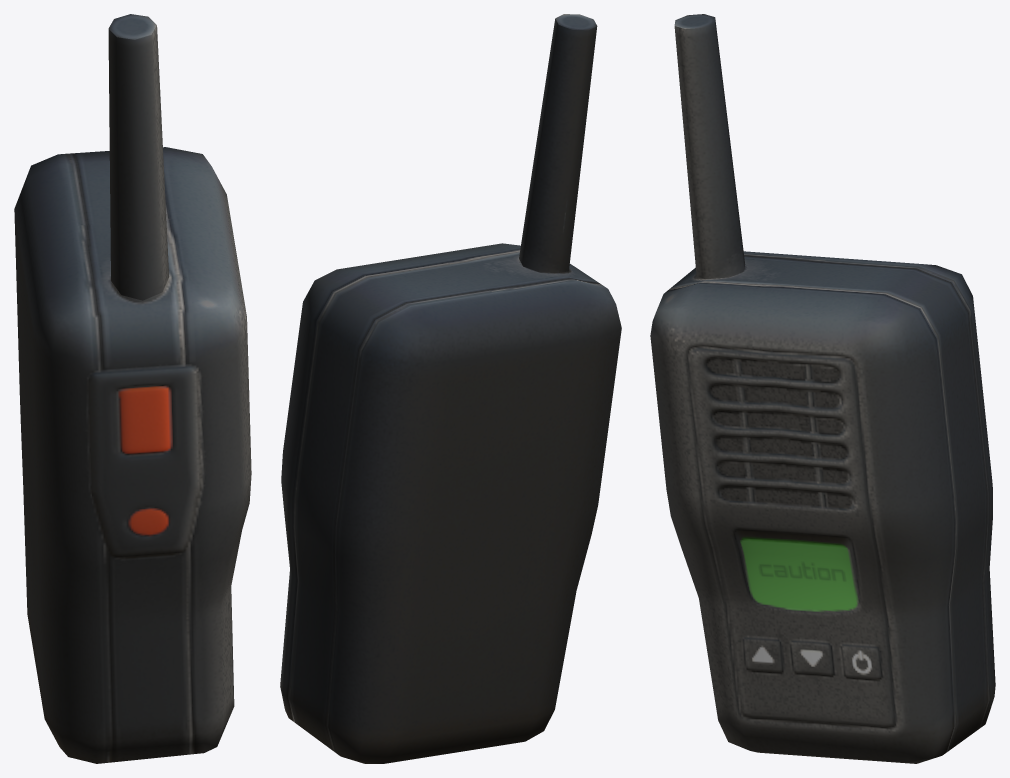
Rendered from wktk.fbx.
3 views of the same model, side by side, from view 1: azimuth 30°, elevation 25°; view 2: azimuth 150°, elevation 25°; view 3: azimuth 270°, elevation 25° (orthographic). The views are drawn at different scales.
Visible parts, largest first — view 1: Walkie; view 2: Walkie; view 3: Walkie.
Part boxes in pixels (x1=…): Walkie: x1=14, y1=14, x2=251, y2=763; Walkie: x1=280, y1=14, x2=621, y2=763; Walkie: x1=650, y1=14, x2=995, y2=763.
Size of the model in its own units: 0.0785 by 0.2145 by 0.0966.
